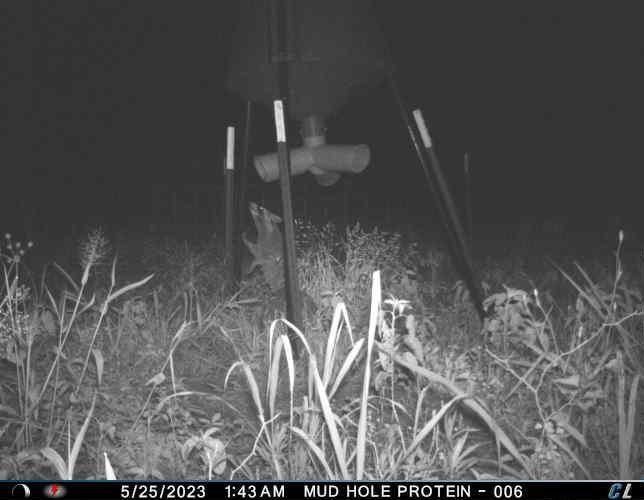Raccoon: (241, 197, 285, 286)
